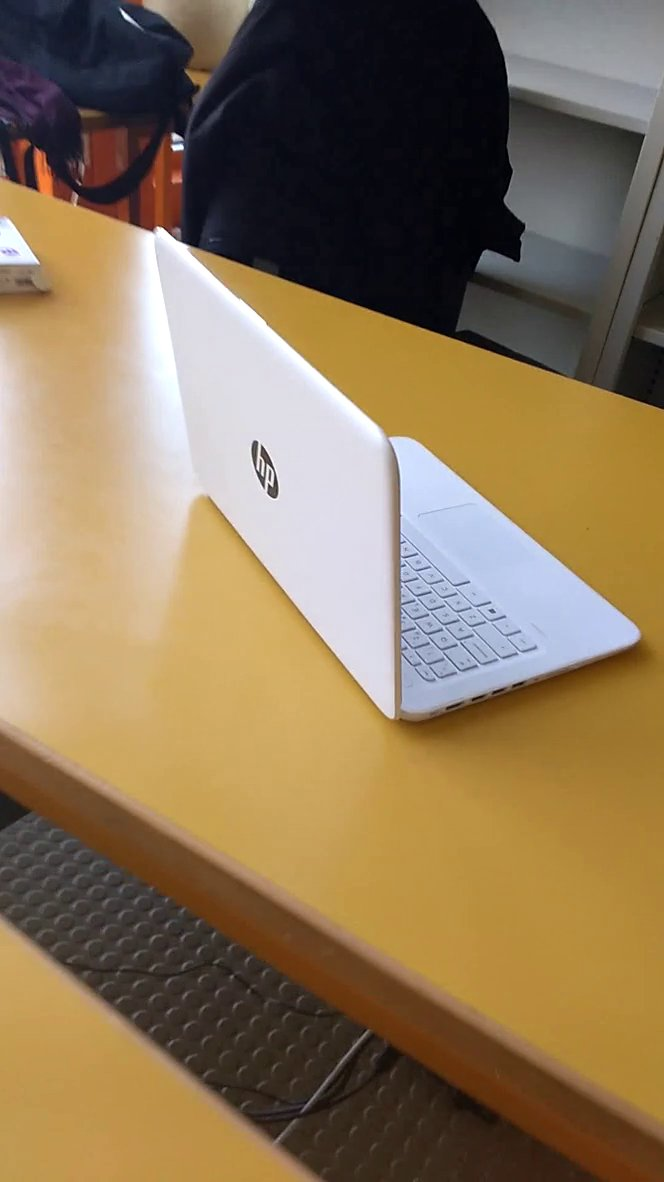laptop: (140, 212, 653, 735)
